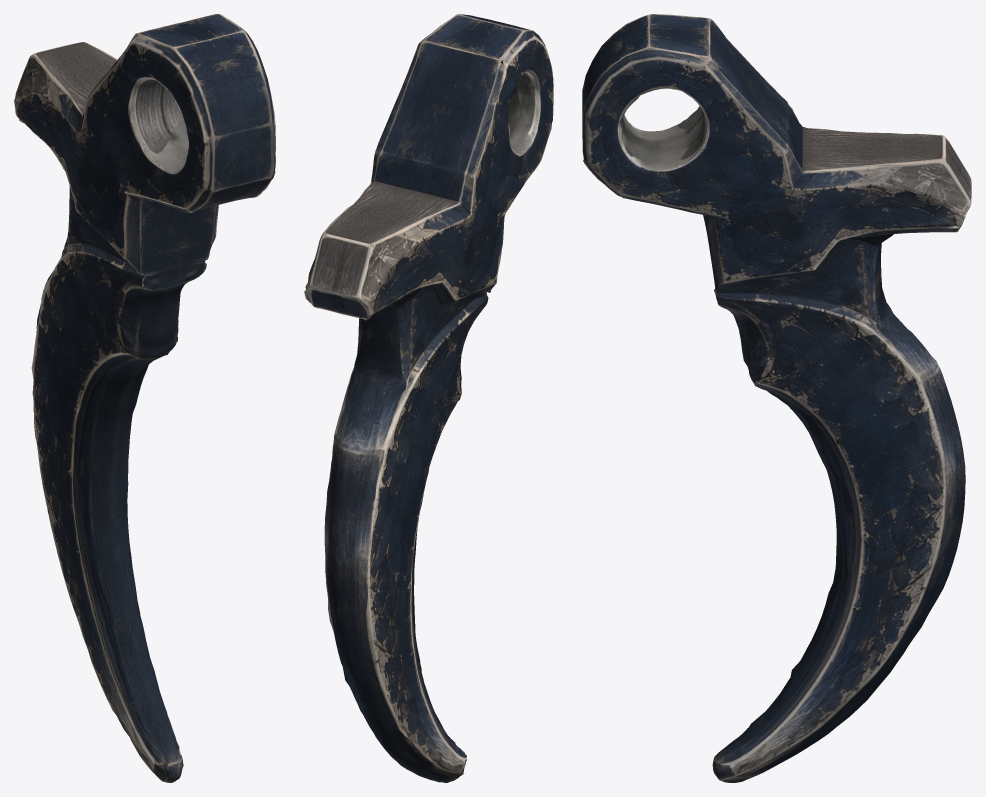
File: rv_trigger.glb
3 views of the same model, side by side, from view 1: azimuth 30°, elevation 25°; view 2: azimuth 150°, elevation 25°; view 3: azimuth 270°, elevation 25° (orthographic). The views are drawn at different scales.
Parts seen in each view (by area): view 1: Mesh_0; view 2: Mesh_0; view 3: Mesh_0.
Part boxes in pixels (x1,y1,x2,y2): Mesh_0: (14, 14, 275, 782); Mesh_0: (304, 14, 553, 782); Mesh_0: (582, 14, 971, 782).
Bounding box in the file's own units: 0.00448 × 0.0304 × 0.0143.
Materials: 1 (1 with a texture image).
